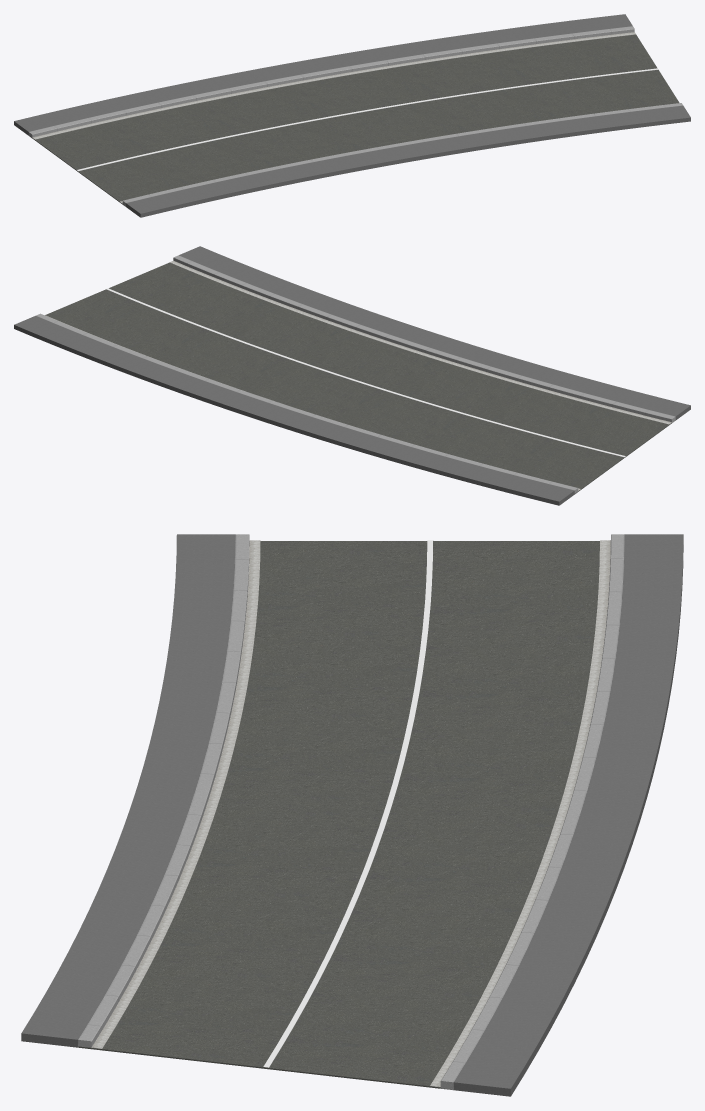
Rendered from sweethome3d-scopia-curved-road-2-lanes-26m.glb.
The picture shows the model from 3 angles, top to bottom: view 1: azimuth 30°, elevation 25°; view 2: azimuth 150°, elevation 25°; view 3: azimuth 270°, elevation 25°; orthographic projection. The views are drawn at different scales.
Visible parts, largest first — view 1: roadCourbe2VoiesAvecTrottoirs26m_Plane.042; view 2: roadCourbe2VoiesAvecTrottoirs26m_Plane.042; view 3: roadCourbe2VoiesAvecTrottoirs26m_Plane.042.
Boxes of the visible parts, x1,y1,x2,y2 form: roadCourbe2VoiesAvecTrottoirs26m_Plane.042: [14, 14, 690, 217]; roadCourbe2VoiesAvecTrottoirs26m_Plane.042: [14, 246, 690, 505]; roadCourbe2VoiesAvecTrottoirs26m_Plane.042: [21, 534, 683, 1096].
Bounding box in the file's own units: 2706 × 18 × 1366.
12 materials, 9 textured.
